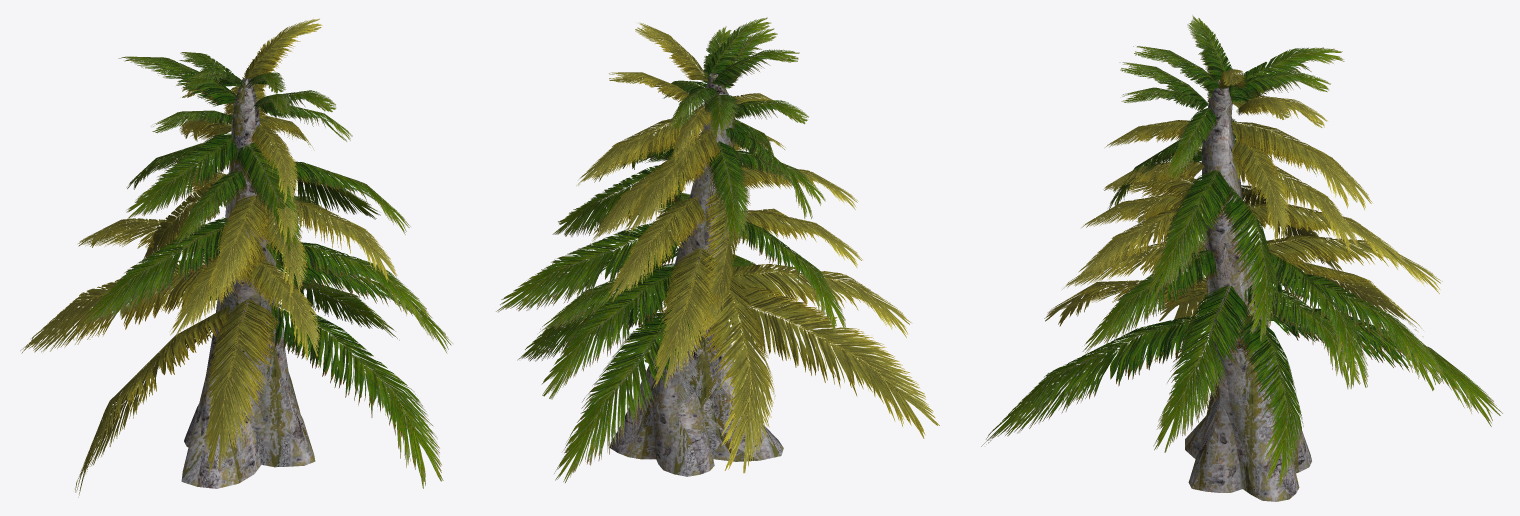
File: Tempskya_01.DAE
3 renders of one model, left to right at view 1: azimuth 30°, elevation 25°; view 2: azimuth 150°, elevation 25°; view 3: azimuth 270°, elevation 25°, orthographic. The views are drawn at different scales.
Visible parts, largest first — view 1: TempSkya300, TempSkya100, TempSkya200; view 2: TempSkya300, TempSkya100, TempSkya200; view 3: TempSkya300, TempSkya200, TempSkya100.
Part boxes in pixels (left/top/right/bottom): TempSkya300: left=20, top=18, right=452, bottom=492; TempSkya100: left=21, top=23, right=441, bottom=497; TempSkya200: left=78, top=19, right=451, bottom=488; TempSkya300: left=496, top=17, right=939, bottom=481; TempSkya100: left=506, top=23, right=937, bottom=482; TempSkya200: left=498, top=18, right=909, bottom=475; TempSkya300: left=981, top=15, right=1502, bottom=501; TempSkya200: left=986, top=18, right=1480, bottom=500; TempSkya100: left=992, top=22, right=1500, bottom=497.
Size of what is drawn, in the model's own units: 334 by 391 by 348.
